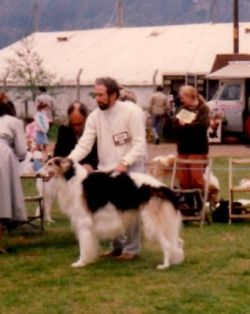borzoi: (31, 152, 187, 272)
